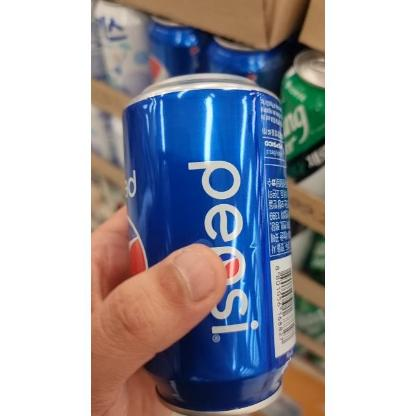Can: (119, 72, 303, 416)
